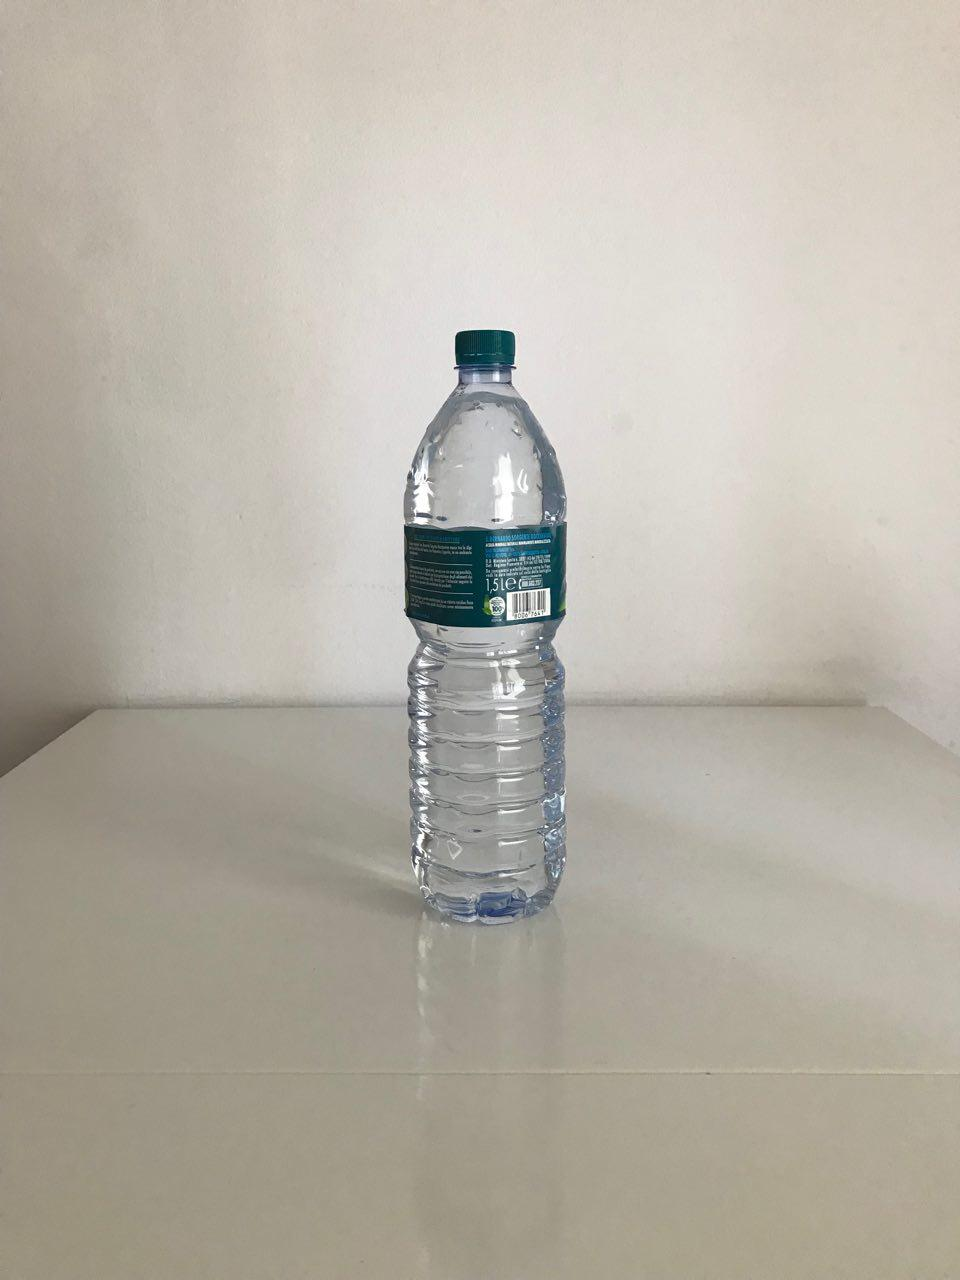san_bernardo: (402, 328, 570, 928)
